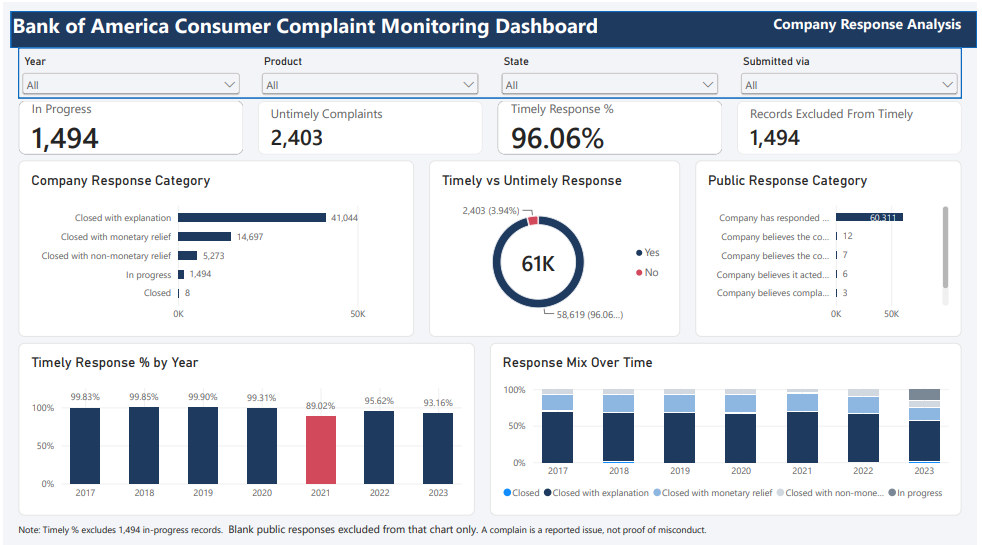

What the dashboard file says about the page in this screenshot:
{"tool":"powerbi","page":{"name":"Company Response Analysis","canvas":[1280,720],"ordinal":2},"visuals":[{"type":"shape","box":[10.1,11.8,1269.9,48.7],"z":0},{"type":"textbox","box":[11.8,11.8,786.1,48.7],"z":1000},{"type":"shape","box":[20.2,60.5,1239.7,65.5],"z":2000},{"type":"slicer","fields":{"Values":["Data.Year"]},"box":[20,70,295.6,55],"z":3000},{"type":"slicer","fields":{"Values":["Data.Product_Final"]},"box":[335,70,295,55],"z":4000},{"type":"slicer","fields":{"Values":["Data.State"]},"box":[650,70,295,55],"z":5000},{"type":"slicer","fields":{"Values":["Data.Submitted via"]},"box":[965,70,295,55],"z":6000},{"type":"textbox","box":[20,683,1240,27],"z":7000},{"type":"textbox","box":[900.4,15,360,30],"z":8000},{"type":"cardVisual","fields":{"Data":["Data.Timely Response %"]},"box":[650,130,295,70],"z":8001},{"type":"cardVisual","fields":{"Data":["Data.In Progress"]},"box":[20,130,295,70],"z":8002},{"type":"cardVisual","fields":{"Data":["Data.Untimely Complaints"]},"box":[335,130,295,70],"z":8003},{"type":"cardVisual","fields":{"Data":["Data.Excluded From Timely %"]},"box":[965,130,295,70],"z":8004},{"type":"clusteredBarChart","title":"Company Response Category","fields":{"Category":["Data.Company response to consumer"],"Y":["Data.Total Complaints"]},"box":[20,208,520,232],"z":8005},{"type":"donutChart","title":"Timely vs Untimely Response","fields":{"Category":["Data.Timely response?"],"Y":["Data.Total Complaints"]},"box":[560,208,330,232],"z":8006},{"type":"clusteredBarChart","title":"Public Response Category","fields":{"Category":["Data.Company public response"],"Y":["Data.Total Complaints"]},"box":[910,208,350,232],"z":8007},{"type":"clusteredColumnChart","title":"Timely Response % by Year","fields":{"Category":["Data.Year"],"Y":["Data.Timely Response %"]},"box":[20.2,448,600,227],"z":8008},{"type":"hundredPercentStackedColumnChart","title":"Response Mix Over Time","fields":{"Category":["Data.Year"],"Series":["Data.Company response to consumer"],"Y":["Data.Total Complaints"]},"box":[640,448,620,227],"z":8009}]}

Visuals, with their boxes in screenshot pixels (x1, y1, x2, y2), scaled from the page's 1280x720 canvas onto the 982x545 screenshot:
shape: l=8, t=9, r=981, b=46
textbox: l=9, t=9, r=612, b=46
shape: l=15, t=46, r=967, b=95
slicer - Data.Year: l=15, t=53, r=242, b=95
slicer - Data.Product_Final: l=257, t=53, r=483, b=95
slicer - Data.State: l=499, t=53, r=725, b=95
slicer - Data.Submitted via: l=740, t=53, r=967, b=95
textbox: l=15, t=517, r=967, b=537
textbox: l=691, t=11, r=967, b=34
cardVisual - Data.Timely Response %: l=499, t=98, r=725, b=151
cardVisual - Data.In Progress: l=15, t=98, r=242, b=151
cardVisual - Data.Untimely Complaints: l=257, t=98, r=483, b=151
cardVisual - Data.Excluded From Timely %: l=740, t=98, r=967, b=151
"Company Response Category" clusteredBarChart: l=15, t=157, r=414, b=333
"Timely vs Untimely Response" donutChart: l=430, t=157, r=683, b=333
"Public Response Category" clusteredBarChart: l=698, t=157, r=967, b=333
"Timely Response % by Year" clusteredColumnChart: l=15, t=339, r=476, b=511
"Response Mix Over Time" hundredPercentStackedColumnChart: l=491, t=339, r=967, b=511
